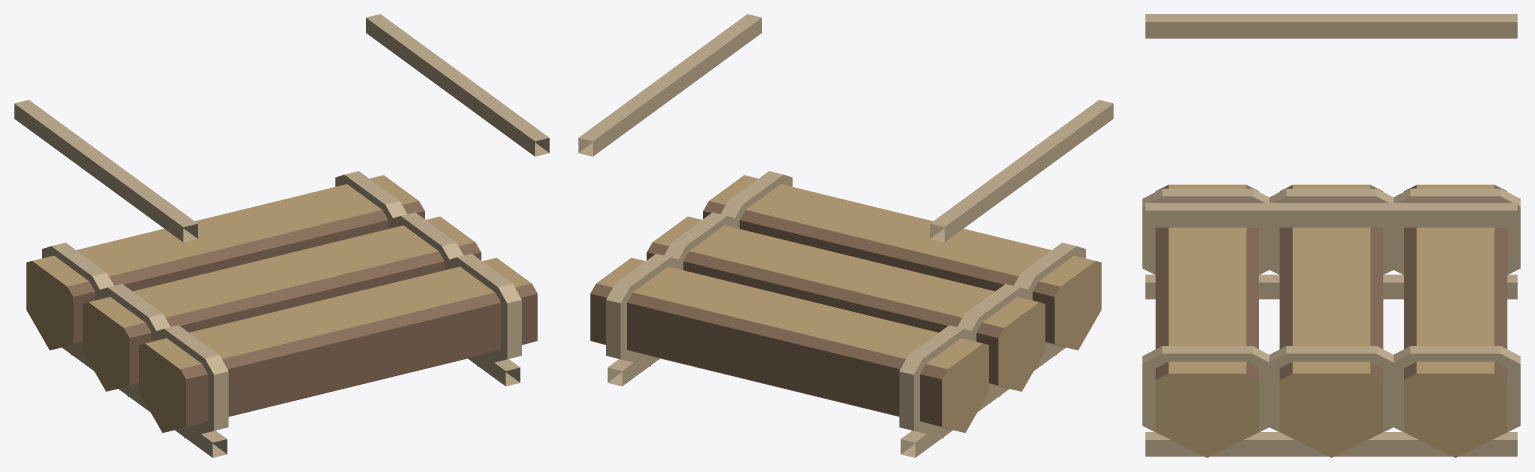
File: Cliff_Prop_Bridge_Rope_Middle.obj
3 views of the same model, side by side, from view 1: azimuth 30°, elevation 25°; view 2: azimuth 150°, elevation 25°; view 3: azimuth 270°, elevation 25° (orthographic). The views are drawn at different scales.
Parts seen in each view (by area): view 1: object12, object7, object3, object10, object13, object11, object2, object5, object4, object8, object1, object6 (+1 smaller); view 2: object3, object7, object12, object10, object13, object4, object8, object11, object5, object1, object2, object6 (+1 smaller); view 3: object7, object12, object3, object10, object13, object9, object1, object2, object8, object11, object4, object5 (+1 smaller).
Boxes of the visible parts, <box> form: object12: <box>139,257,537,432</box>; object7: <box>82,216,481,391</box>; object3: <box>26,175,424,350</box>; object10: <box>366,14,549,156</box>; object13: <box>14,100,197,242</box>; object11: <box>155,325,228,438</box>; object2: <box>449,253,521,366</box>; object5: <box>98,284,170,396</box>; object4: <box>42,242,113,355</box>; object8: <box>335,171,406,228</box>; object1: <box>393,212,463,269</box>; object6: <box>62,346,227,457</box>; object3: <box>590,257,988,432</box>; object7: <box>646,216,1045,391</box>; object12: <box>703,175,1101,350</box>; object10: <box>578,14,761,156</box>; object13: <box>930,100,1113,242</box>; object4: <box>899,325,972,438</box>; object8: <box>606,253,679,366</box>; object11: <box>1014,242,1085,355</box>; object5: <box>957,284,1027,396</box>; object1: <box>664,212,736,269</box>; object2: <box>721,171,792,228</box>; object6: <box>900,346,1065,457</box>; object7: <box>1279,184,1383,457</box>; object12: <box>1155,184,1258,457</box>; object3: <box>1404,184,1507,457</box>; object10: <box>1145,203,1517,227</box>; object13: <box>1145,14,1517,38</box>; object9: <box>1145,432,1517,456</box>; object1: <box>1266,346,1396,440</box>; object2: <box>1142,346,1272,442</box>; object8: <box>1390,346,1520,444</box>; object11: <box>1142,188,1272,274</box>; object4: <box>1390,188,1520,274</box>; object5: <box>1266,188,1396,274</box>.
Bounding box in the file's own units: 1.25 × 0.7789 × 1.02.
